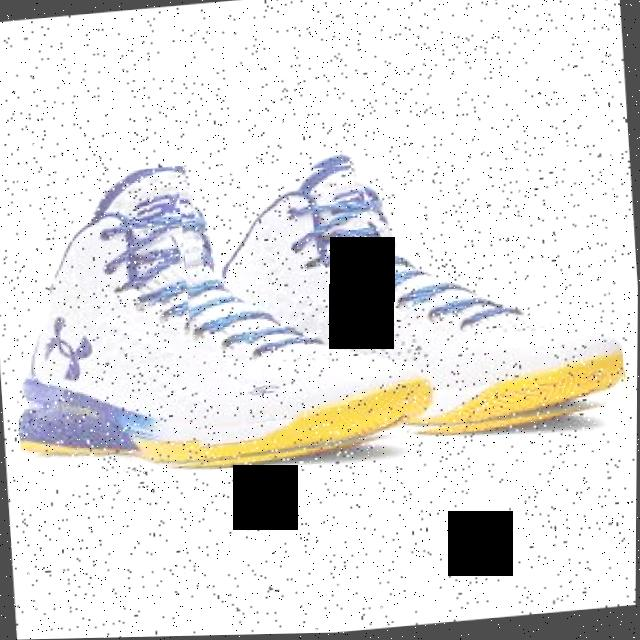shoe: (2, 145, 432, 487), (177, 144, 629, 460)
